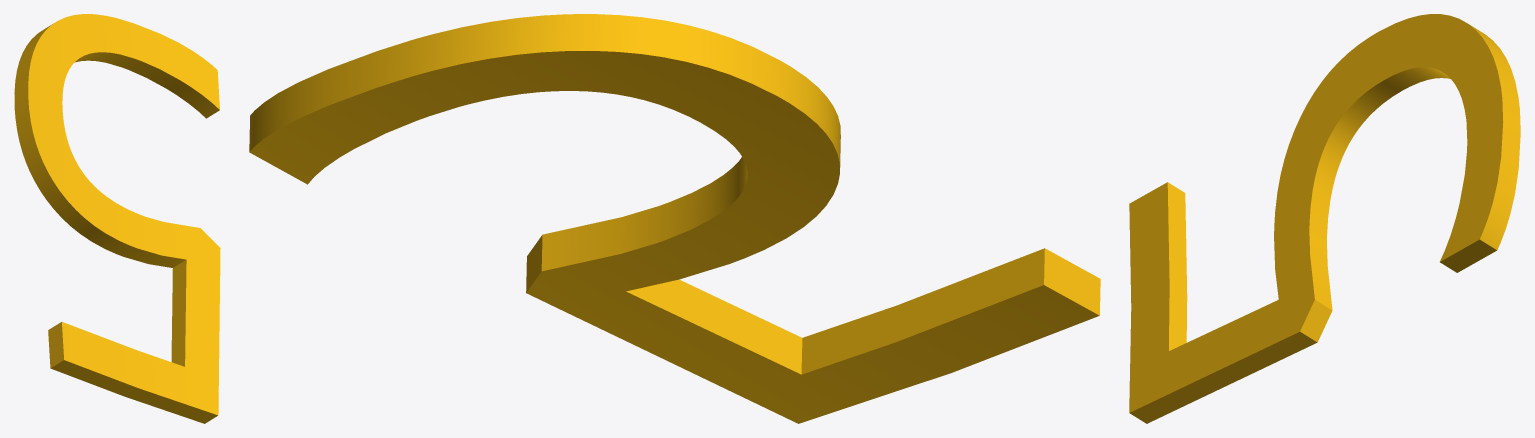
Rendered from Number_5.gltf.
3 renders of one model, left to right at view 1: azimuth 30°, elevation 25°; view 2: azimuth 150°, elevation 25°; view 3: azimuth 270°, elevation 25°, orthographic. The views are drawn at different scales.
Parts seen in each view (by area): view 1: Sub_2_Cell_3_2_Number_5; view 2: Sub_2_Cell_3_2_Number_5; view 3: Sub_2_Cell_3_2_Number_5.
Part boxes in pixels (x1,y1,x2,y2): Sub_2_Cell_3_2_Number_5: (14, 14, 220, 423); Sub_2_Cell_3_2_Number_5: (249, 14, 1100, 423); Sub_2_Cell_3_2_Number_5: (1129, 14, 1520, 423).
Bounding box in the file's own units: 0.0212 × 0.0209 × 0.0192.
